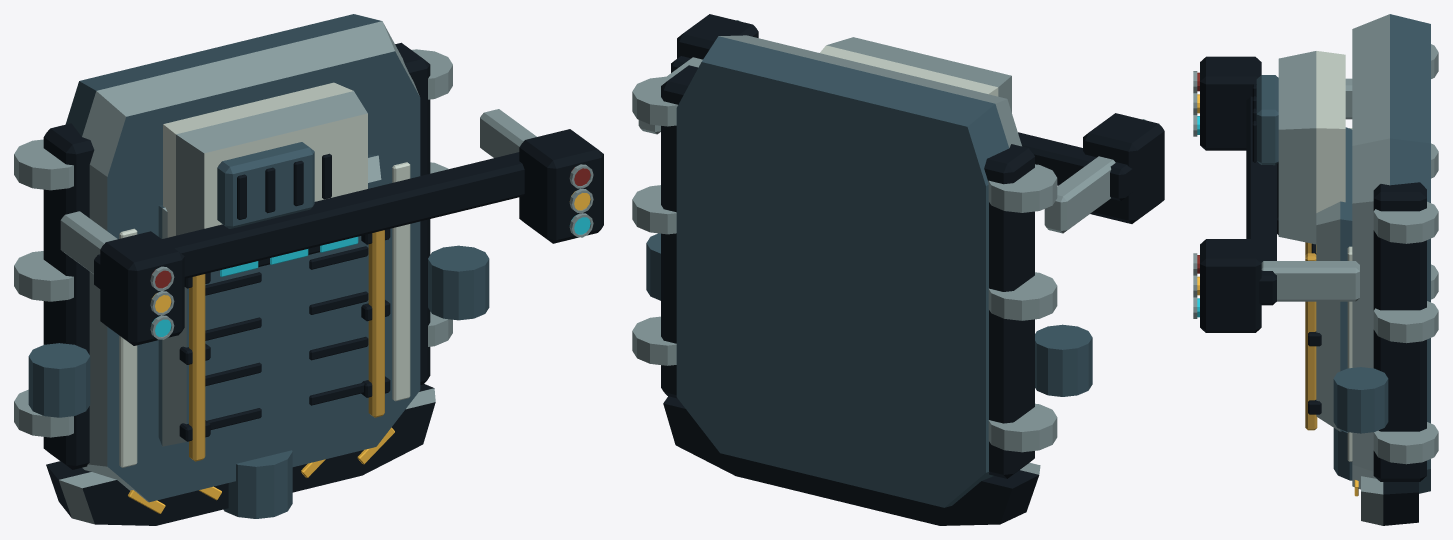
3 renders of one model, left to right at view 1: azimuth 30°, elevation 25°; view 2: azimuth 150°, elevation 25°; view 3: azimuth 270°, elevation 25°, orthographic. The views are drawn at different scales.
Visible parts, largest first — view 1: Model; view 2: Model; view 3: Model.
Part boxes in pixels (x1,y1,x2,y2): Model: [14, 14, 603, 525]; Model: [632, 14, 1164, 525]; Model: [1193, 14, 1438, 525].
Bounding box in the file's own units: 2.91 × 2.52 × 1.44.
